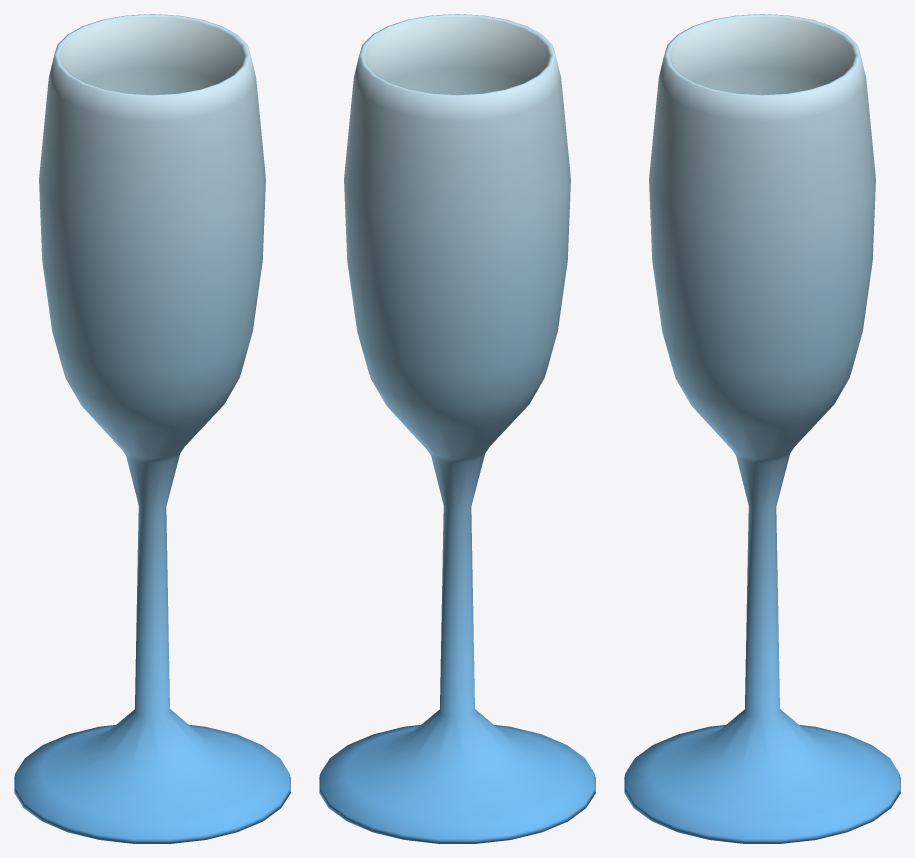
Rendered from glass_008.glb.
3 renders of one model, left to right at view 1: azimuth 30°, elevation 25°; view 2: azimuth 150°, elevation 25°; view 3: azimuth 270°, elevation 25°, orthographic.
Parts seen in each view (by area): view 1: glass_008; view 2: glass_008; view 3: glass_008.
Part boxes in pixels (x1,y1,x2,y2): glass_008: (14,14,290,843); glass_008: (319,14,595,843); glass_008: (624,14,900,843).
Size of the model in its own units: 0.0766 by 0.2232 by 0.0766.
1 material, 1 textured.
